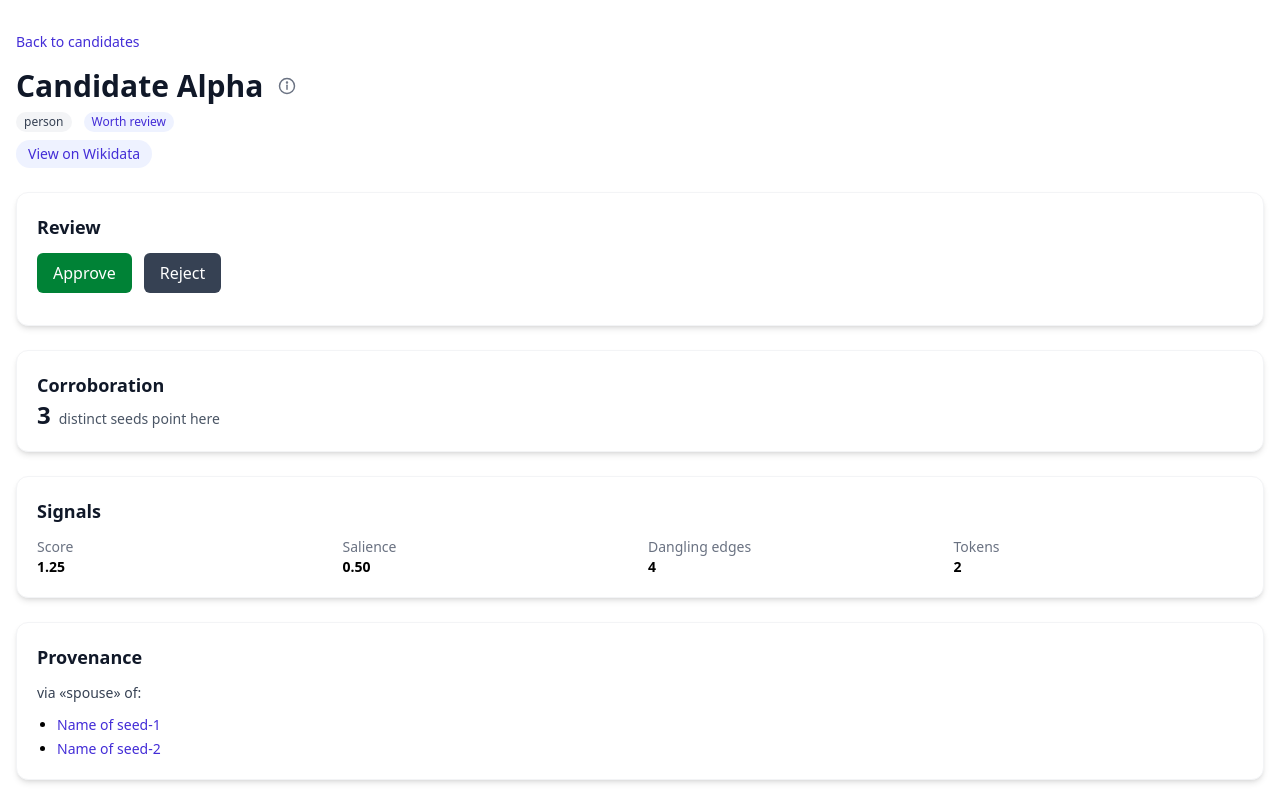
Scenario: CandidateDetailPage verdict › shows the superseded message
Click the button "Approve": [84, 273] box [37,253,132,293]
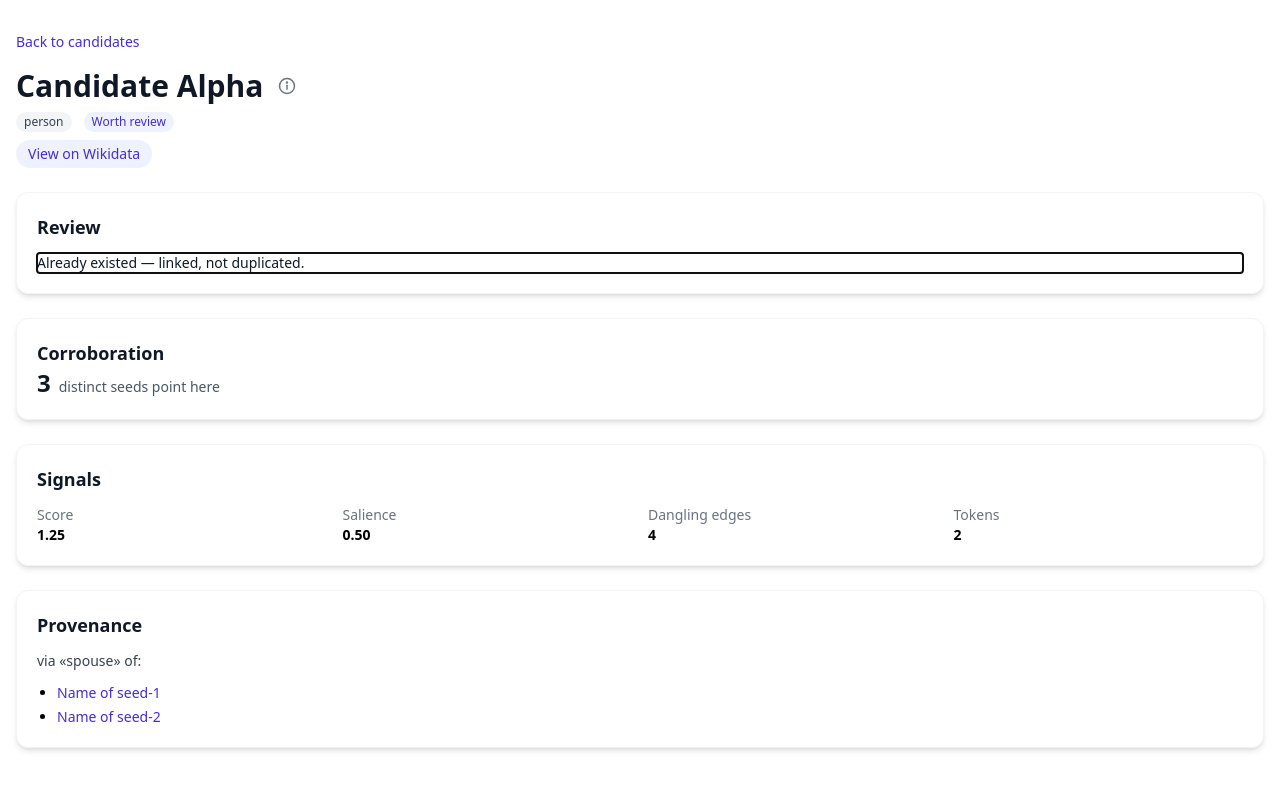
expect the text "Already existed — linked, not duplicated." is shown: met, box [37,253,304,272]
